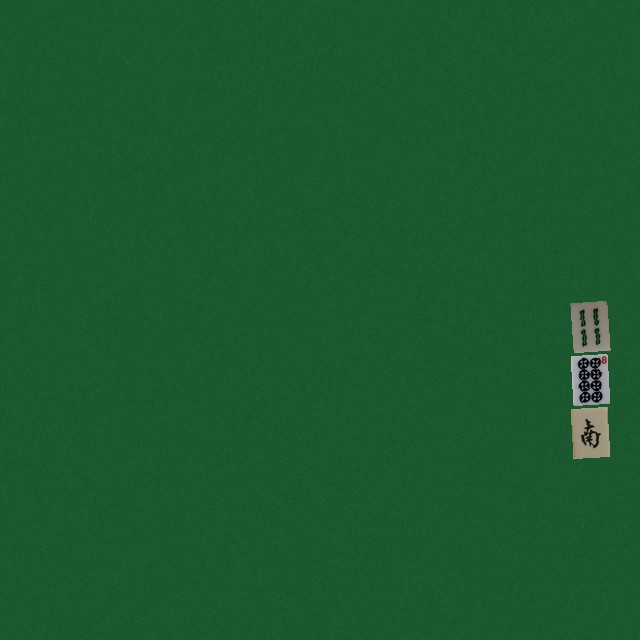tile: (570, 300, 607, 350), (570, 353, 607, 403), (570, 406, 607, 456)
